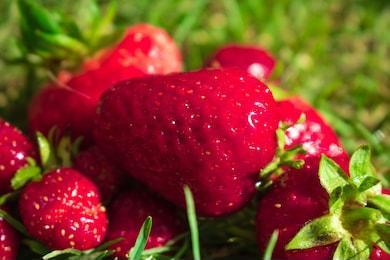Fresa: (87, 58, 286, 222), (11, 161, 111, 255)
